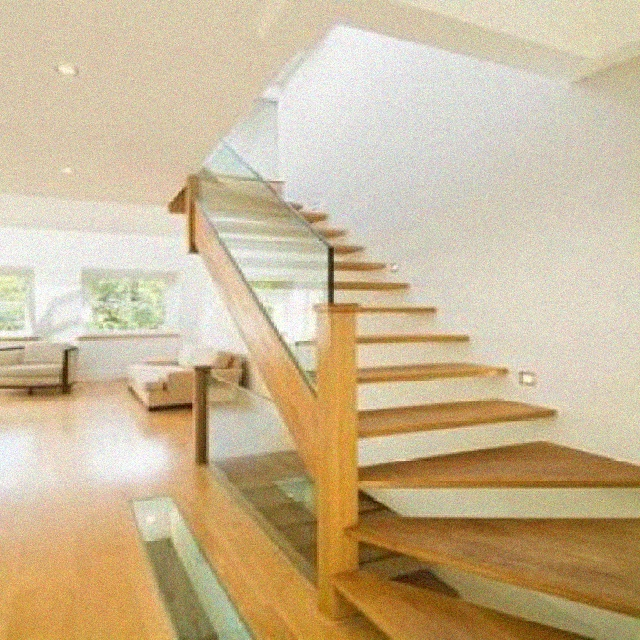stair: (100, 126, 637, 637)
